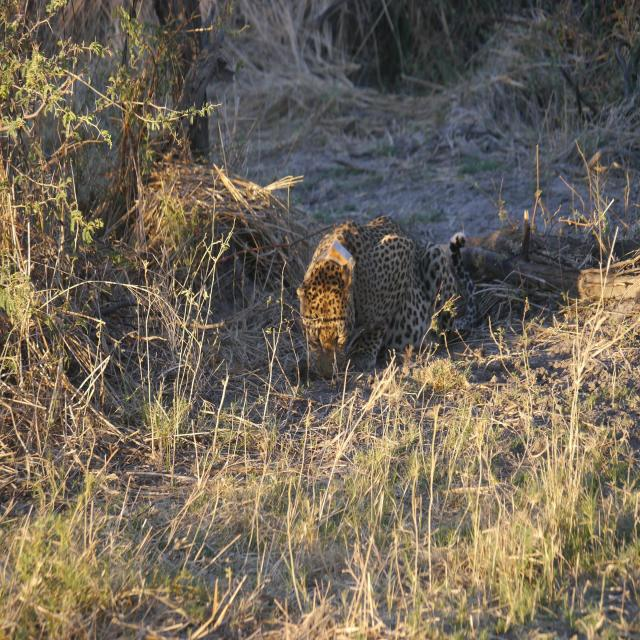Leopard: (300, 210, 471, 381)
